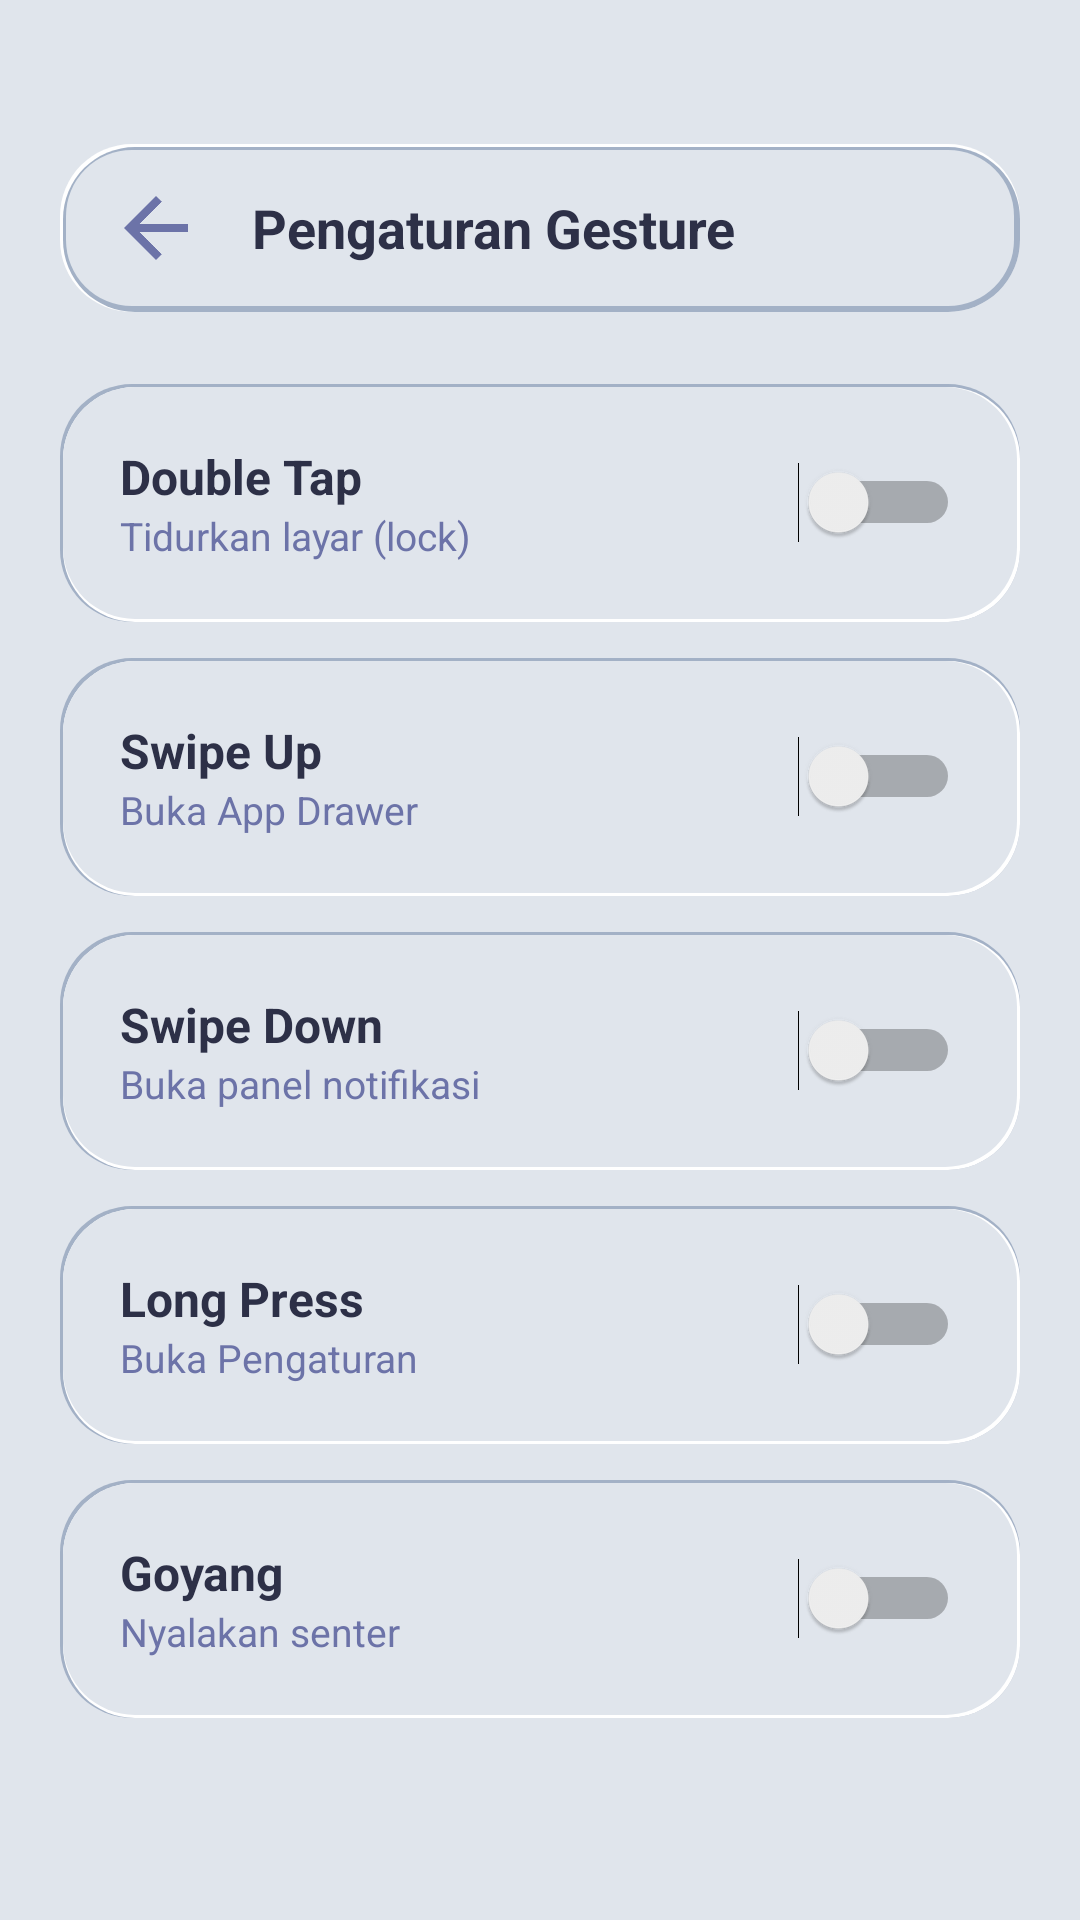

Where icons sit on this 1080x1920 app screen, as {"x1": x1, "y1": y1, "x2": x2, "y2": y2}:
arrow back: {"x1": 124, "y1": 196, "x2": 188, "y2": 260}
